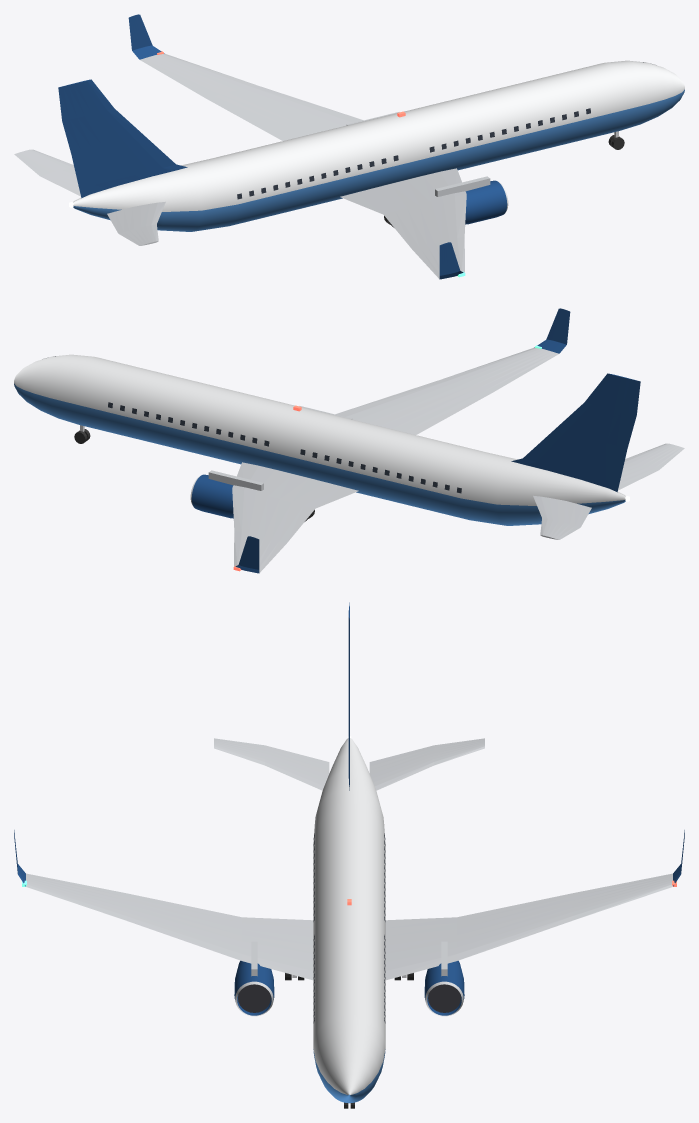
File: airliner_ua.glb
3 renders of one model, top to bottom at view 1: azimuth 30°, elevation 25°; view 2: azimuth 150°, elevation 25°; view 3: azimuth 270°, elevation 25°, orthographic. The views are drawn at different scales.
Visible parts, largest first — view 1: plane; view 2: plane; view 3: plane.
Boxes of the visible parts, left/top/right/bottom form: plane: left=14, top=14, right=684, bottom=279; plane: left=14, top=308, right=684, bottom=573; plane: left=14, top=602, right=684, bottom=1103.
Size of the model in its own units: 40.6 by 12.2 by 34.94.
